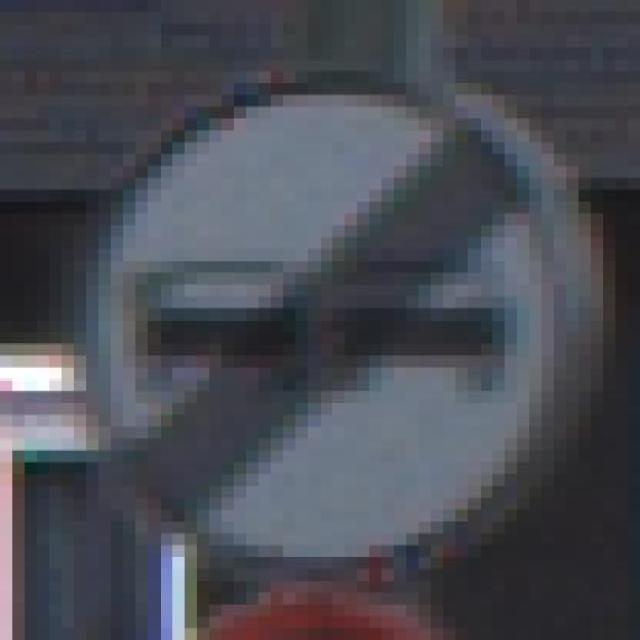No_Over_Taking: (37, 36, 628, 582)
